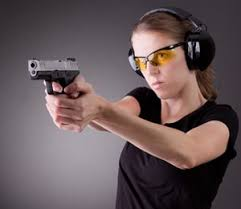gun: (26, 55, 91, 134)
